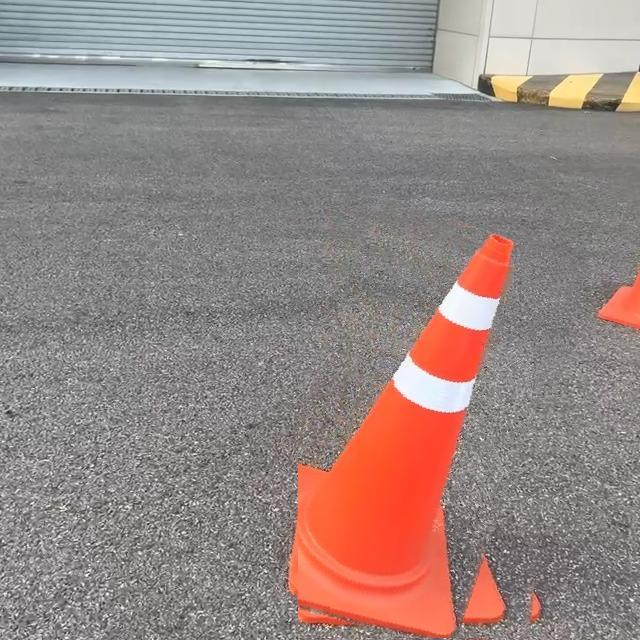fallen_object: (213, 45, 544, 593)
